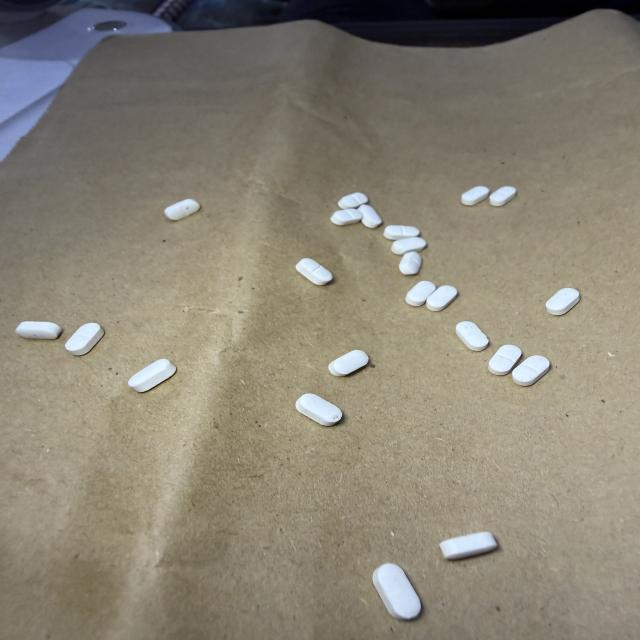pill: (373, 564, 421, 619), (129, 359, 176, 392), (440, 532, 497, 559), (296, 394, 342, 426), (65, 323, 104, 355), (513, 356, 549, 386), (329, 350, 368, 376), (296, 258, 332, 285), (456, 321, 488, 351), (489, 345, 521, 375), (546, 288, 580, 315), (16, 322, 62, 339), (426, 286, 457, 311), (406, 281, 436, 306), (165, 199, 200, 220), (392, 237, 426, 254), (358, 205, 382, 228), (462, 186, 489, 205), (400, 252, 422, 275), (331, 209, 362, 225), (490, 187, 516, 206), (384, 226, 419, 240), (338, 193, 368, 209)
